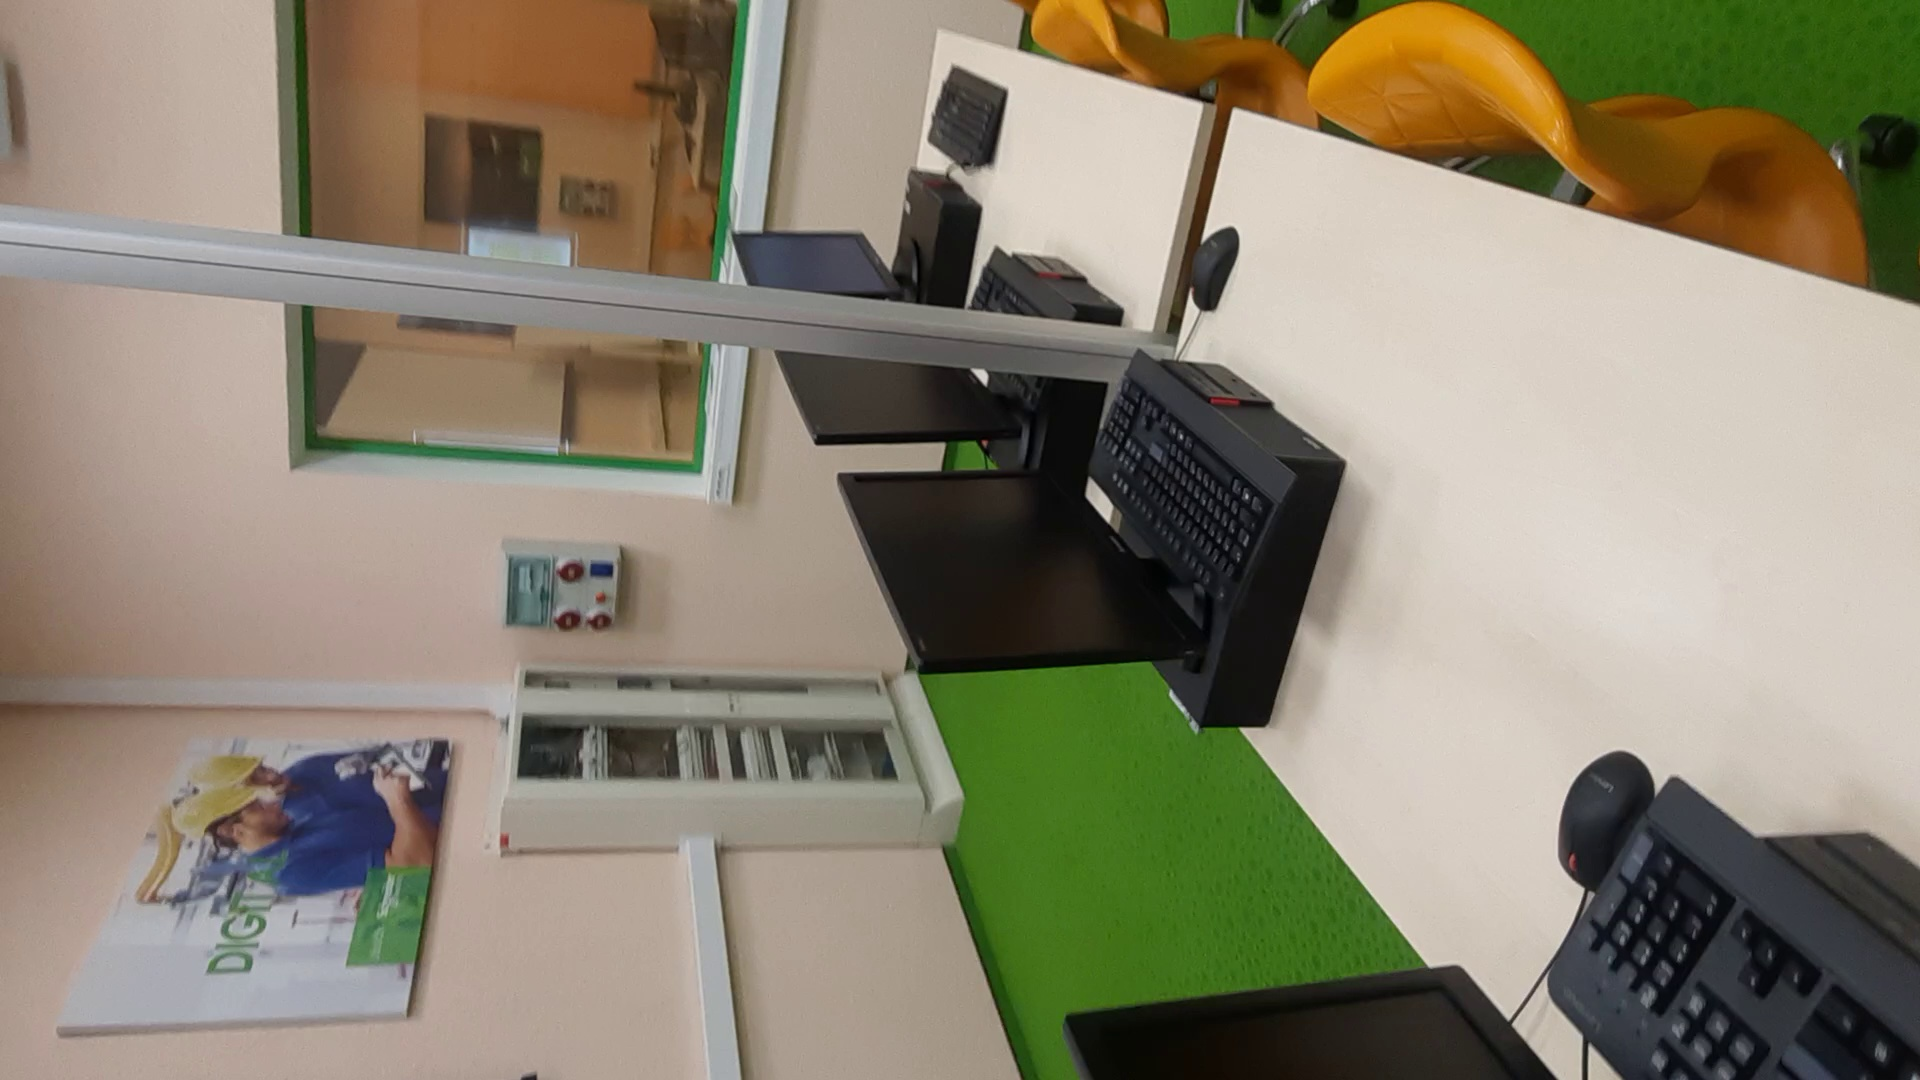stand1: (495, 659, 969, 847)
